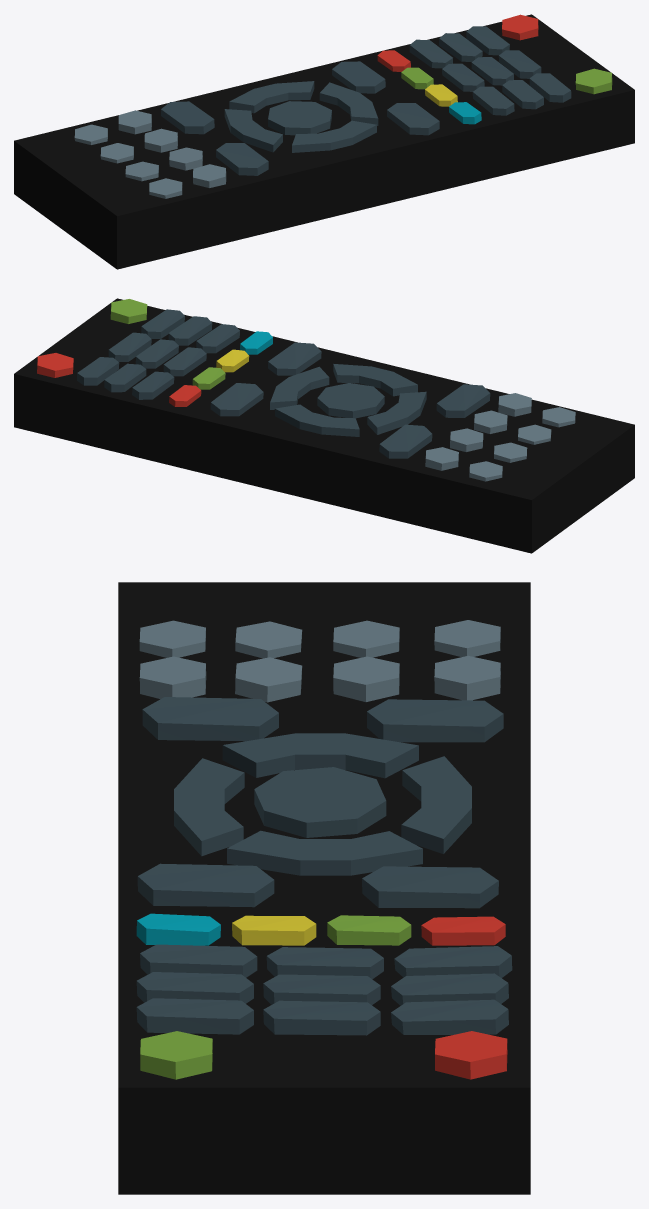
The model's file is remote.gltf.
3 views of the same model, one above another, from view 1: azimuth 30°, elevation 25°; view 2: azimuth 150°, elevation 25°; view 3: azimuth 270°, elevation 25° (orthographic). The views are drawn at different scales.
Visible parts, largest first — view 1: node_MeshObject1928289280-PolyPaper23; view 2: node_MeshObject1928289280-PolyPaper23; view 3: node_MeshObject1928289280-PolyPaper23.
Part boxes in pixels (x1,y1,x2,y2): node_MeshObject1928289280-PolyPaper23: (14,14,634,269); node_MeshObject1928289280-PolyPaper23: (14,298,634,553); node_MeshObject1928289280-PolyPaper23: (118,582,530,1194).
Bounding box in the file's own units: 1.42 × 0.1629 × 0.49.
